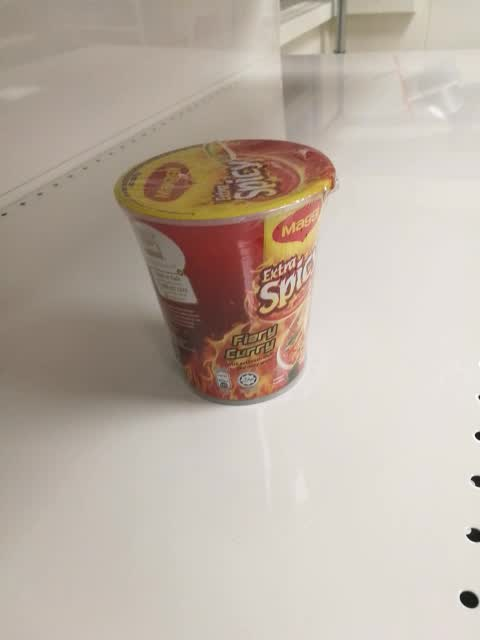maggi: (112, 138, 338, 406)
